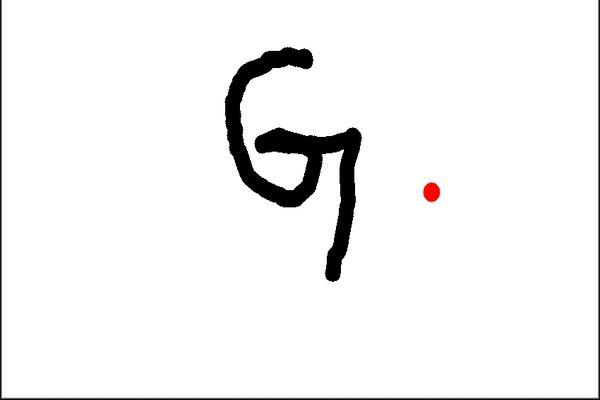G: (215, 43, 366, 286)
